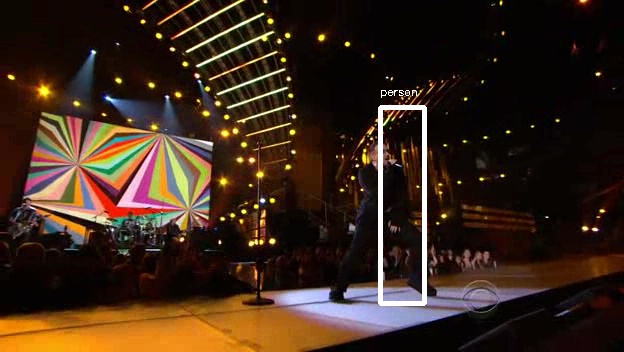person: (352, 142, 415, 249), (349, 142, 412, 249), (355, 142, 418, 249), (352, 139, 415, 246), (352, 145, 415, 252)
target_negative: (293, 206, 591, 267), (475, 223, 577, 328), (19, 5, 53, 172), (523, 275, 595, 322), (525, 103, 580, 157), (617, 240, 622, 251)
